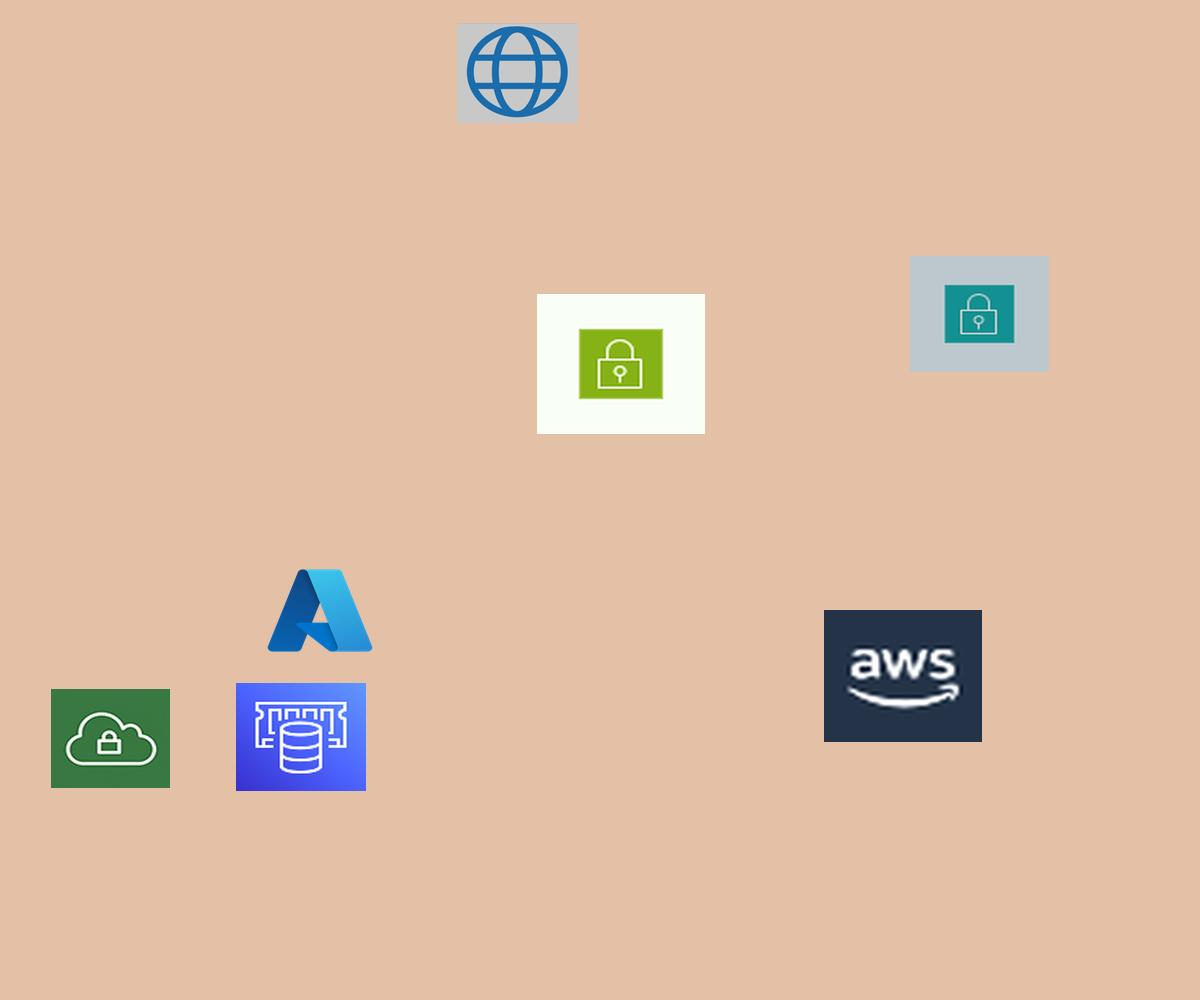AWS-Cloud-logo: (824, 610, 982, 742)
AWS-ElastiCache: (236, 683, 366, 791)
AWS-Private-subnet: (910, 256, 1049, 372)
AWS-Private_vpc: (51, 689, 170, 788)
AWS-Public-subnet: (537, 294, 705, 434)
Azure_http: (457, 23, 578, 123)
Azure_services: (263, 563, 377, 658)
